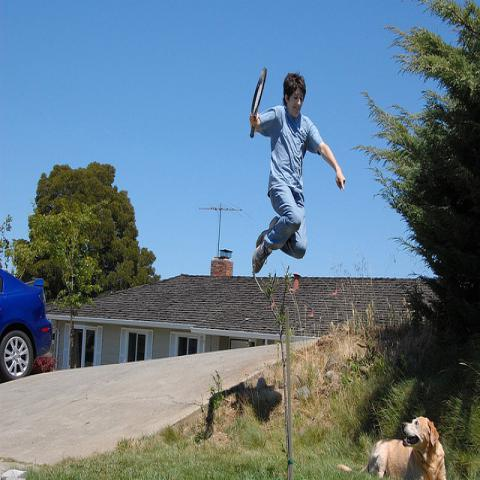car: (0, 266, 54, 386)
